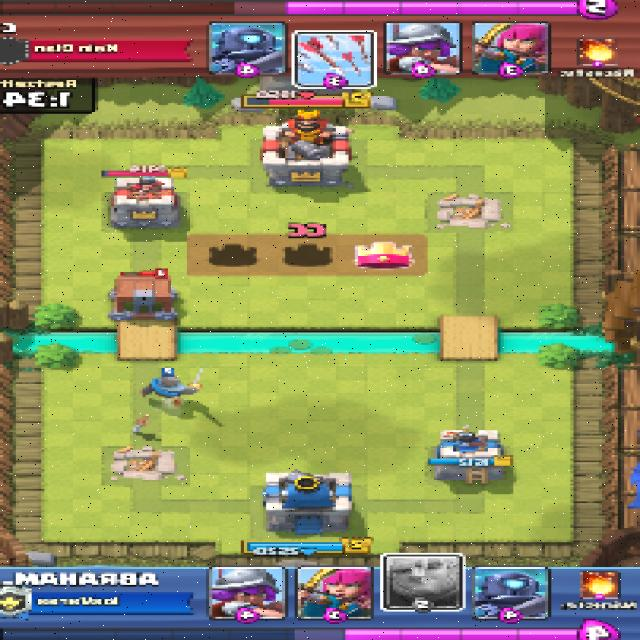Player-GoblinCage: (104, 272, 186, 322)
Player-Knight: (139, 374, 204, 404)
